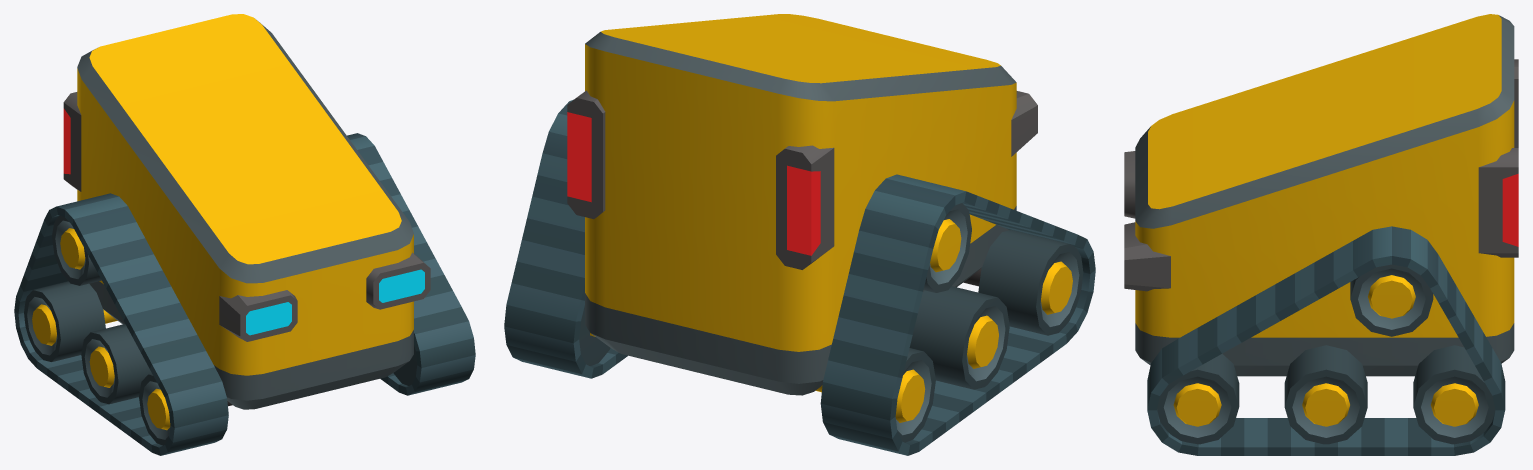
Rendered from Delivery_drone_004.glb.
3 renders of one model, left to right at view 1: azimuth 30°, elevation 25°; view 2: azimuth 150°, elevation 25°; view 3: azimuth 270°, elevation 25°, orthographic. The views are drawn at different scales.
Parts seen in each view (by area): view 1: Delivery_drone_004; view 2: Delivery_drone_004; view 3: Delivery_drone_004.
Part boxes in pixels (x1=…): Delivery_drone_004: x1=14, y1=14, x2=475, y2=455; Delivery_drone_004: x1=504, y1=14, x2=1095, y2=455; Delivery_drone_004: x1=1124, y1=14, x2=1518, y2=455.
Bounding box in the file's own units: 0.8698 × 0.7893 × 0.8843.
Materials: 2 (2 with a texture image).
